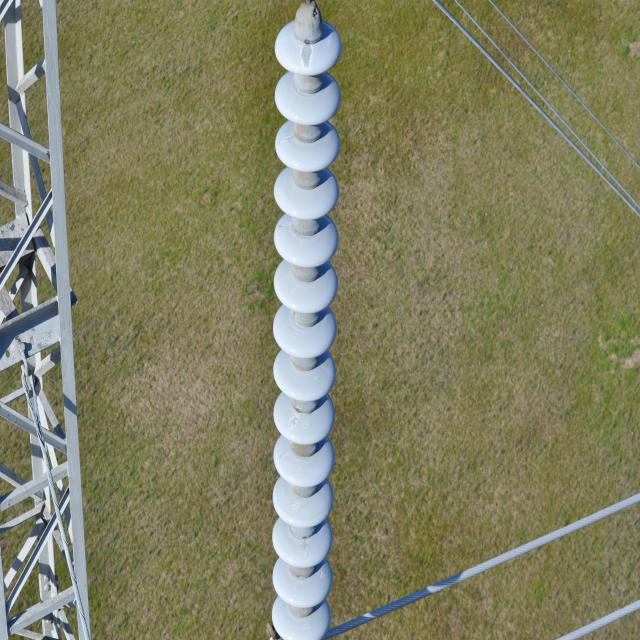insulator: (268, 18, 343, 640)
